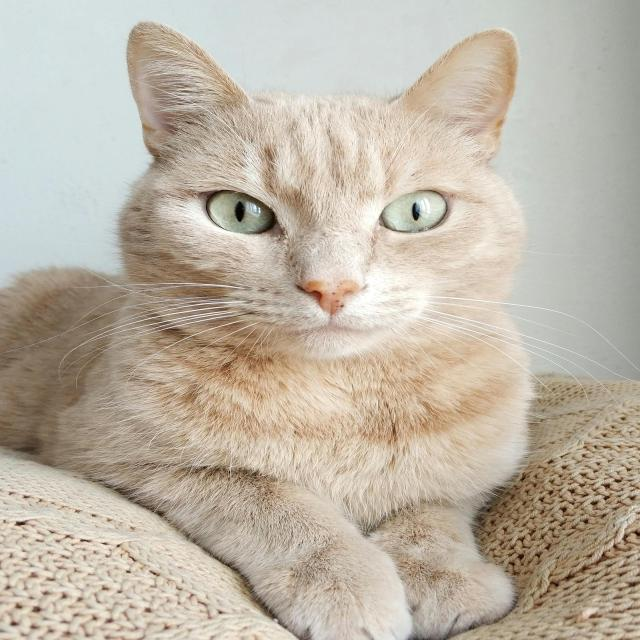Cat: (1, 19, 636, 639)
